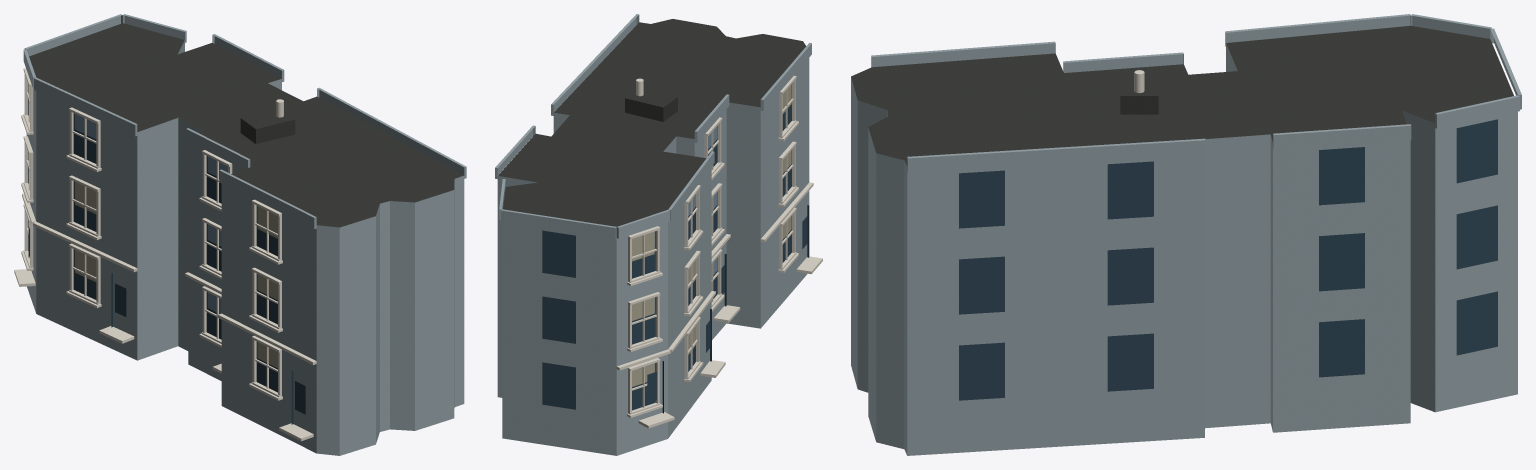
3 renders of one model, left to right at view 1: azimuth 30°, elevation 25°; view 2: azimuth 150°, elevation 25°; view 3: azimuth 270°, elevation 25°, orthographic. The views are drawn at different scales.
Visible parts, largest first — view 1: Footprint 0 / surface 2, Footprint 0 / surface 1, Cornices and window frames, Facade bay volumes, Inset glazing, Interior blind variation, Sky reflection panels, Inferred rooftop service enclosure / surface 5, Inferred rooftop service enclosure / surface 3; view 2: Footprint 0 / surface 2, Footprint 0 / surface 1, Cornices and window frames, Inset glazing, Facade bay volumes, Interior blind variation, Inferred rooftop service enclosure / surface 6, Inferred rooftop service enclosure / surface 3, Storefronts and doors, Sky reflection panels; view 3: Footprint 0 / surface 2, Footprint 0 / surface 1, Inset glazing, Facade bay volumes, Inferred rooftop service enclosure / surface 3, Inferred rooftop service enclosure / surface 1.
Boxes of the visible parts, x1,y1,x2,y2 form: Footprint 0 / surface 2: (26,40,464,455); Footprint 0 / surface 1: (29,23,463,227); Cornices and window frames: (14,68,316,441); Facade bay volumes: (23,14,466,229); Inset glazing: (28,99,305,414); Interior blind variation: (28,84,277,368); Sky reflection panels: (74,114,257,357); Inferred rooftop service enclosure / surface 5: (256,119,295,143); Inferred rooftop service enclosure / surface 3: (241,109,294,128); Footprint 0 / surface 2: (497,58,809,455); Footprint 0 / surface 1: (498,19,805,226); Cornices and window frames: (616,76,822,428); Inset glazing: (503,84,807,410); Facade bay volumes: (495,14,811,238); Interior blind variation: (632,84,791,386); Inferred rooftop service enclosure / surface 6: (625,98,663,121); Inferred rooftop service enclosure / surface 3: (625,88,677,107); Storefronts and doors: (662,205,809,413); Sky reflection panels: (632,126,717,371); Footprint 0 / surface 2: (851,43,1517,455); Footprint 0 / surface 1: (851,25,1513,166); Inset glazing: (959,119,1497,400); Facade bay volumes: (871,14,1521,172); Inferred rooftop service enclosure / surface 3: (1120,71,1158,95); Inferred rooftop service enclosure / surface 1: (1120,96,1158,114).
Size of the model in its own units: 11.07 by 11.24 by 20.91.
